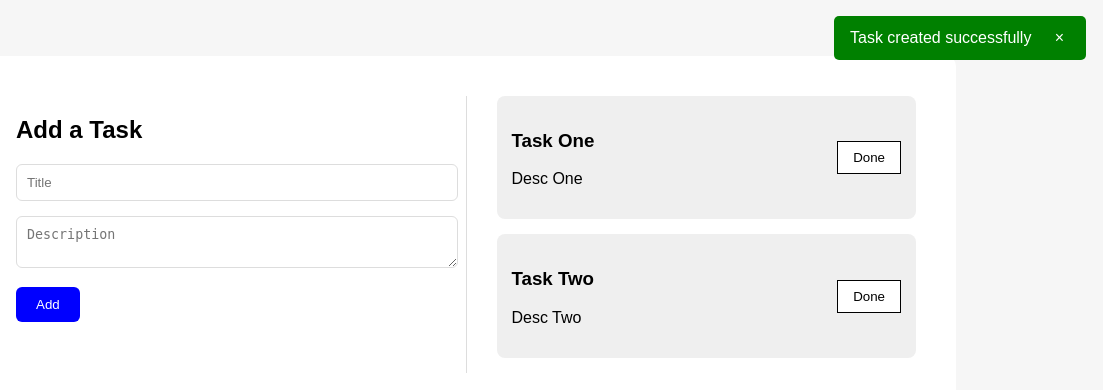
it: App › Toast behaviour › closes the toast when the × button is clicked
Expected: the text "Task created successfully" is shown, x1=850 y1=29 x2=1031 y2=47
Click the button "×" at x=1059, y=38, box x1=1049 y1=28 x2=1070 y2=48
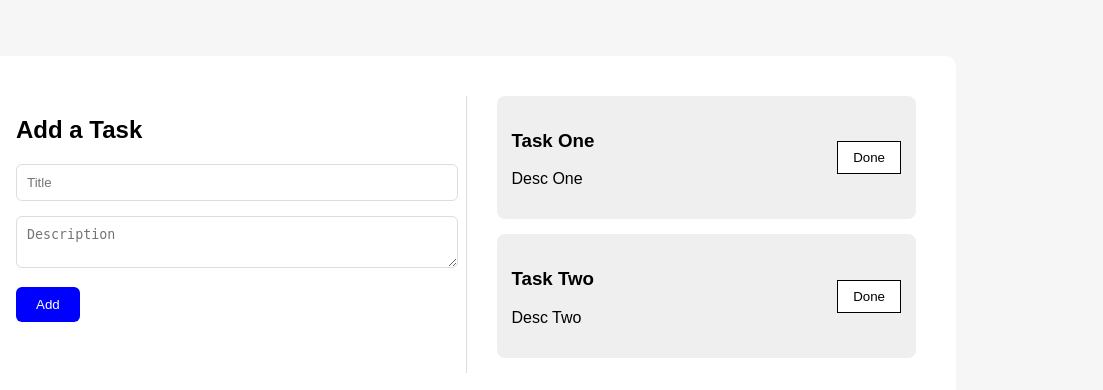
Result: the text "Task created successfully" is gone
